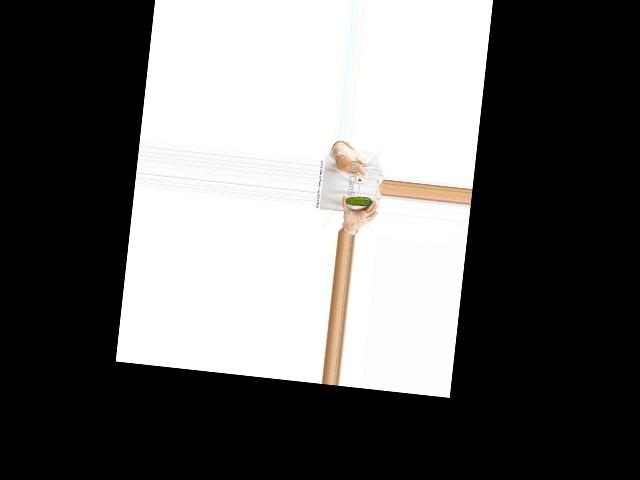cucumber: (344, 195, 372, 208)
